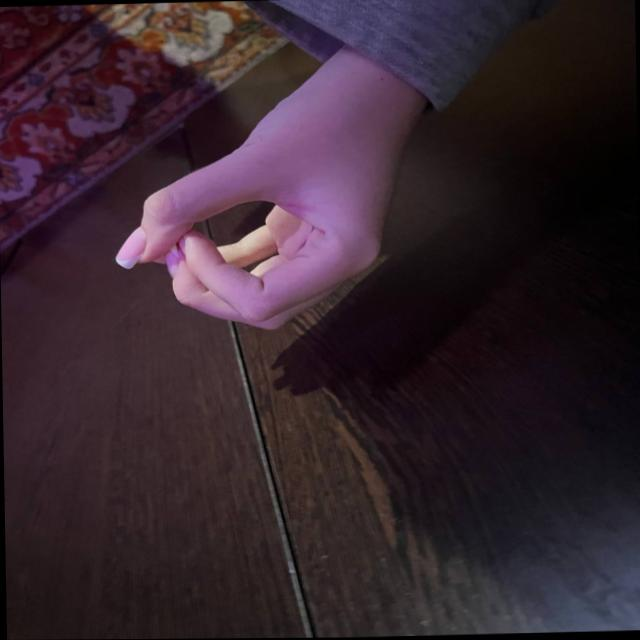e: (101, 126, 405, 345)
